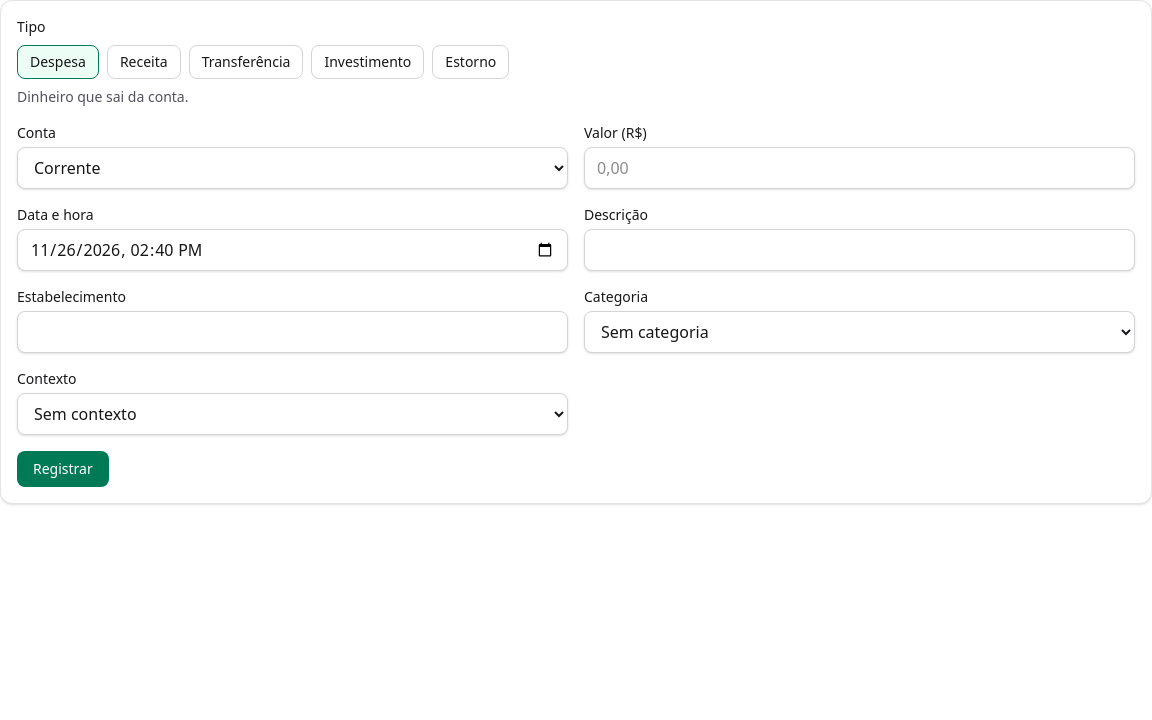
Test: TransactionForm › mostra o erro do servidor
Type "10" into the field labelled "Valor (R$)" at [860, 168], box [584,147,1135,189]
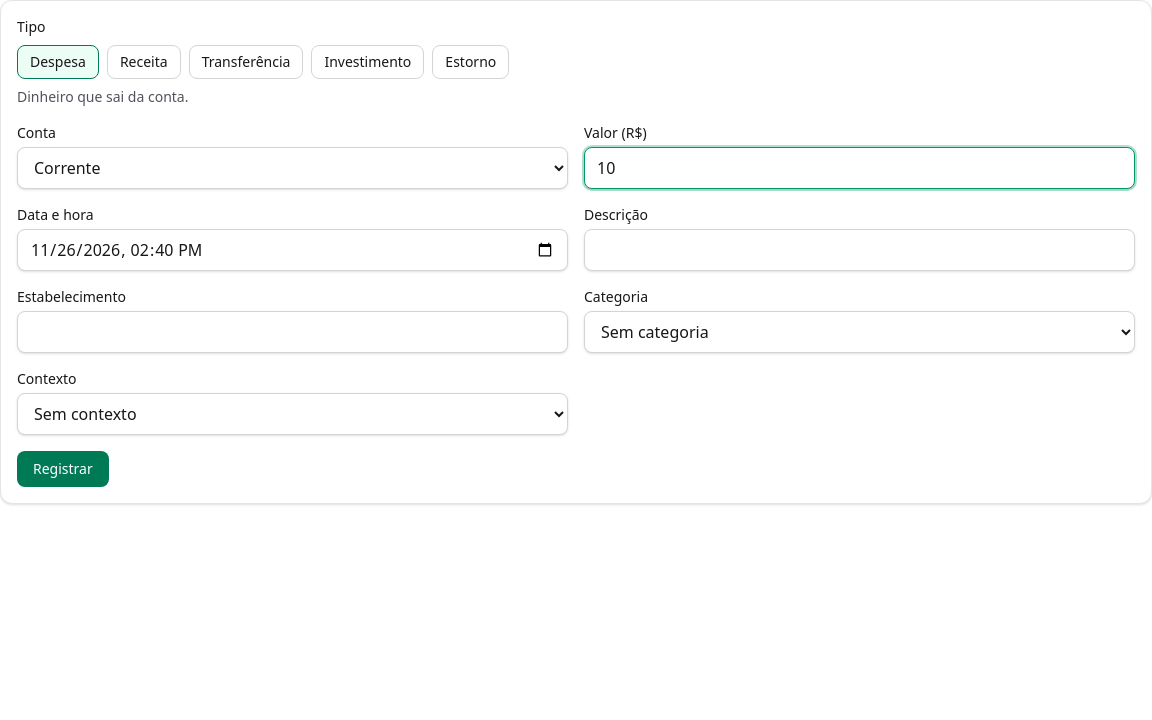
Click the button "Registrar" at [63, 469], box [17,451,109,487]
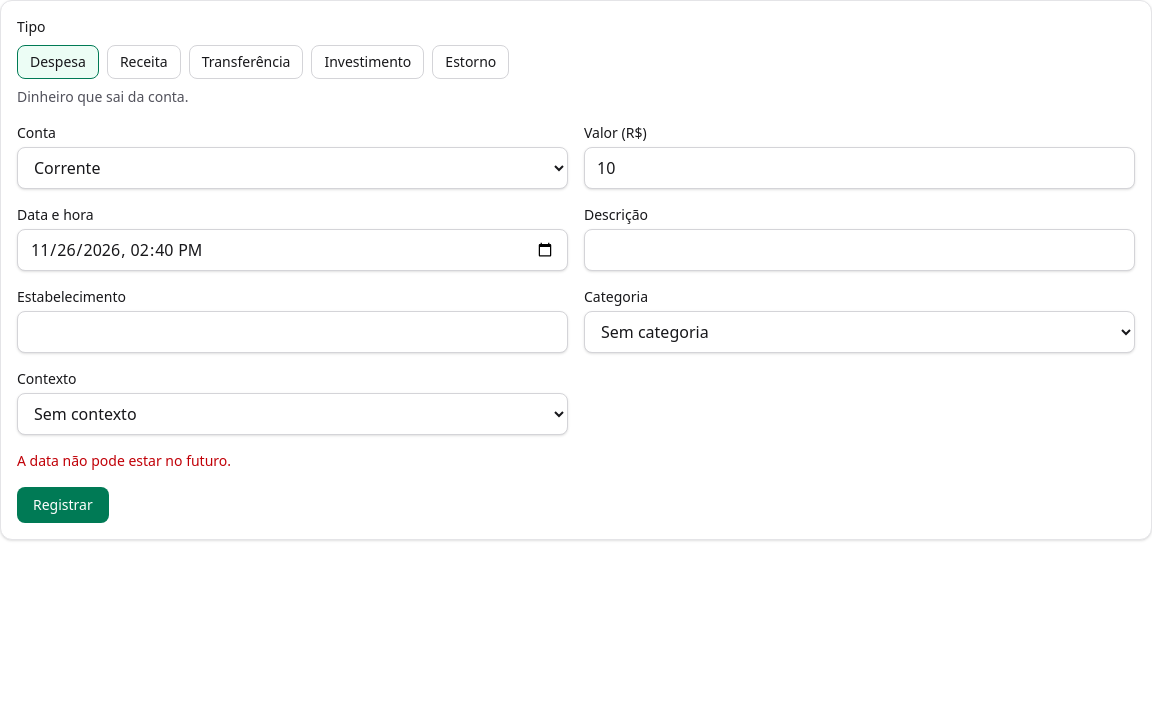
Now the text "A data não pode estar no futuro." is shown, box [17,451,231,470]
